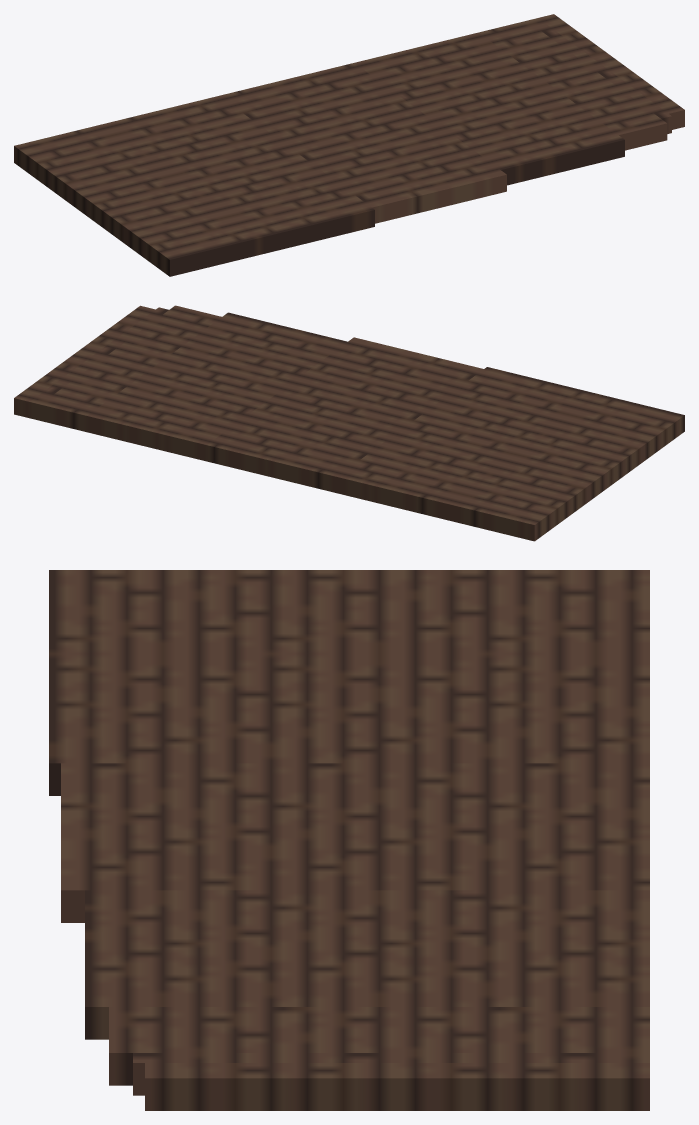
File: Wall_Curved_00.fbx
The picture shows the model from 3 angles, top to bottom: view 1: azimuth 30°, elevation 25°; view 2: azimuth 150°, elevation 25°; view 3: azimuth 270°, elevation 25°; orthographic projection. The views are drawn at different scales.
Parts seen in each view (by area): view 1: Wall_Curved_00; view 2: Wall_Curved_00; view 3: Wall_Curved_00.
Boxes of the visible parts, bbox=[...] form: Wall_Curved_00: bbox=[14, 14, 684, 276]; Wall_Curved_00: bbox=[14, 305, 684, 541]; Wall_Curved_00: bbox=[49, 570, 649, 1110].
Size of the model in its own units: 500 by 15 by 250.
